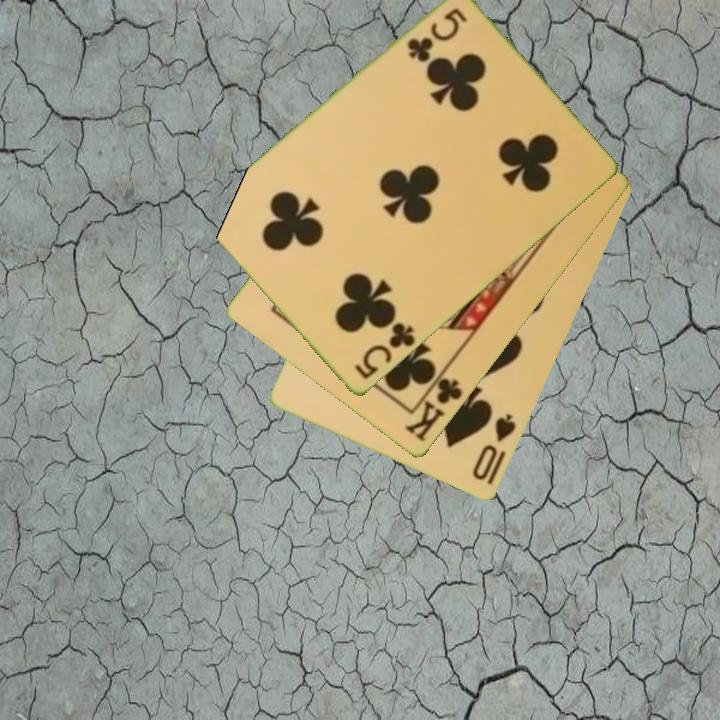10s: (469, 410, 519, 484)
5c: (351, 319, 419, 383), (403, 5, 470, 66)
Kc: (401, 365, 466, 446)
